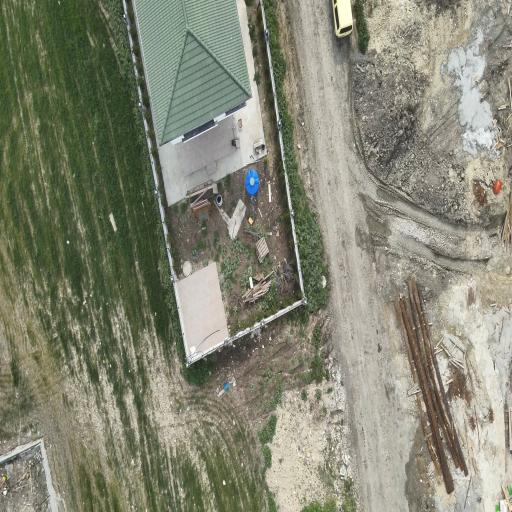car: (332, 0, 353, 38)
